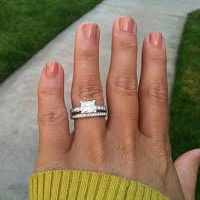ring: (71, 19, 109, 153)
